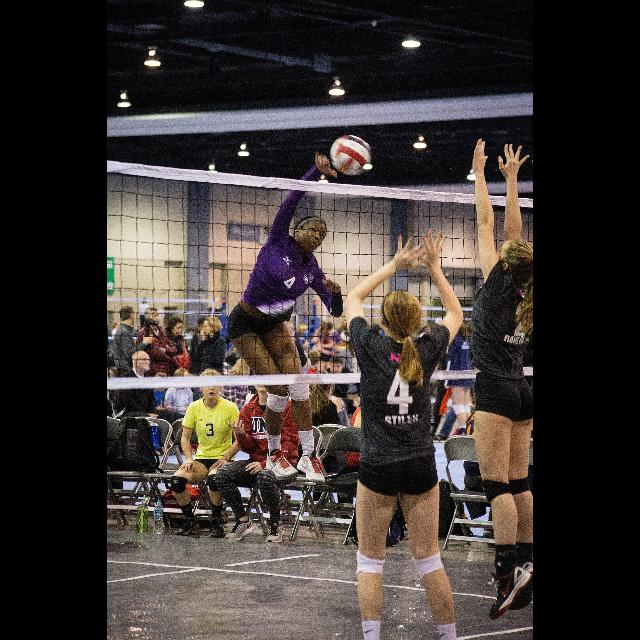head: (492, 236, 532, 288), (381, 290, 422, 336), (292, 215, 328, 253), (310, 370, 336, 400), (254, 363, 278, 392), (199, 372, 223, 400), (203, 317, 221, 337), (132, 351, 150, 371), (119, 306, 135, 326), (145, 307, 161, 325), (174, 369, 190, 387), (169, 317, 183, 337), (154, 375, 168, 393), (460, 320, 474, 336), (238, 358, 250, 374)
person: (228, 148, 360, 486), (212, 358, 308, 546), (168, 366, 245, 542), (302, 372, 351, 510), (114, 348, 164, 474), (110, 304, 156, 432), (134, 306, 180, 432), (444, 315, 482, 453), (192, 315, 228, 431), (219, 356, 261, 438), (159, 316, 189, 428), (163, 366, 201, 454), (147, 372, 176, 434)
